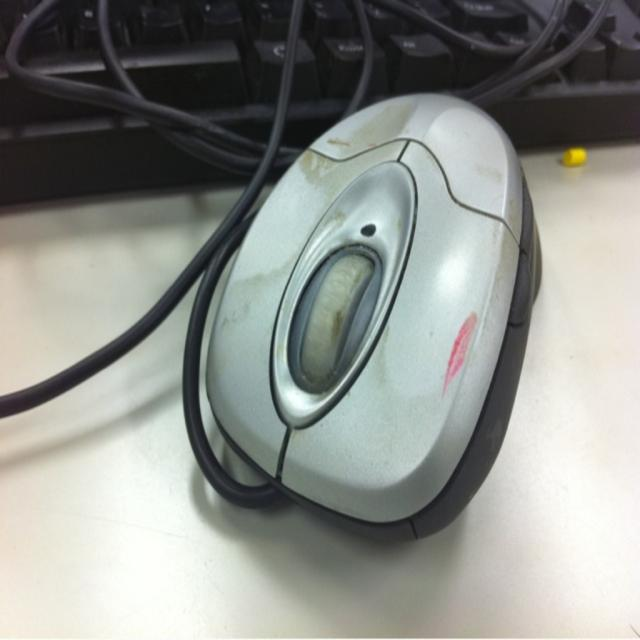Computer-mouse: (206, 93, 542, 544)
